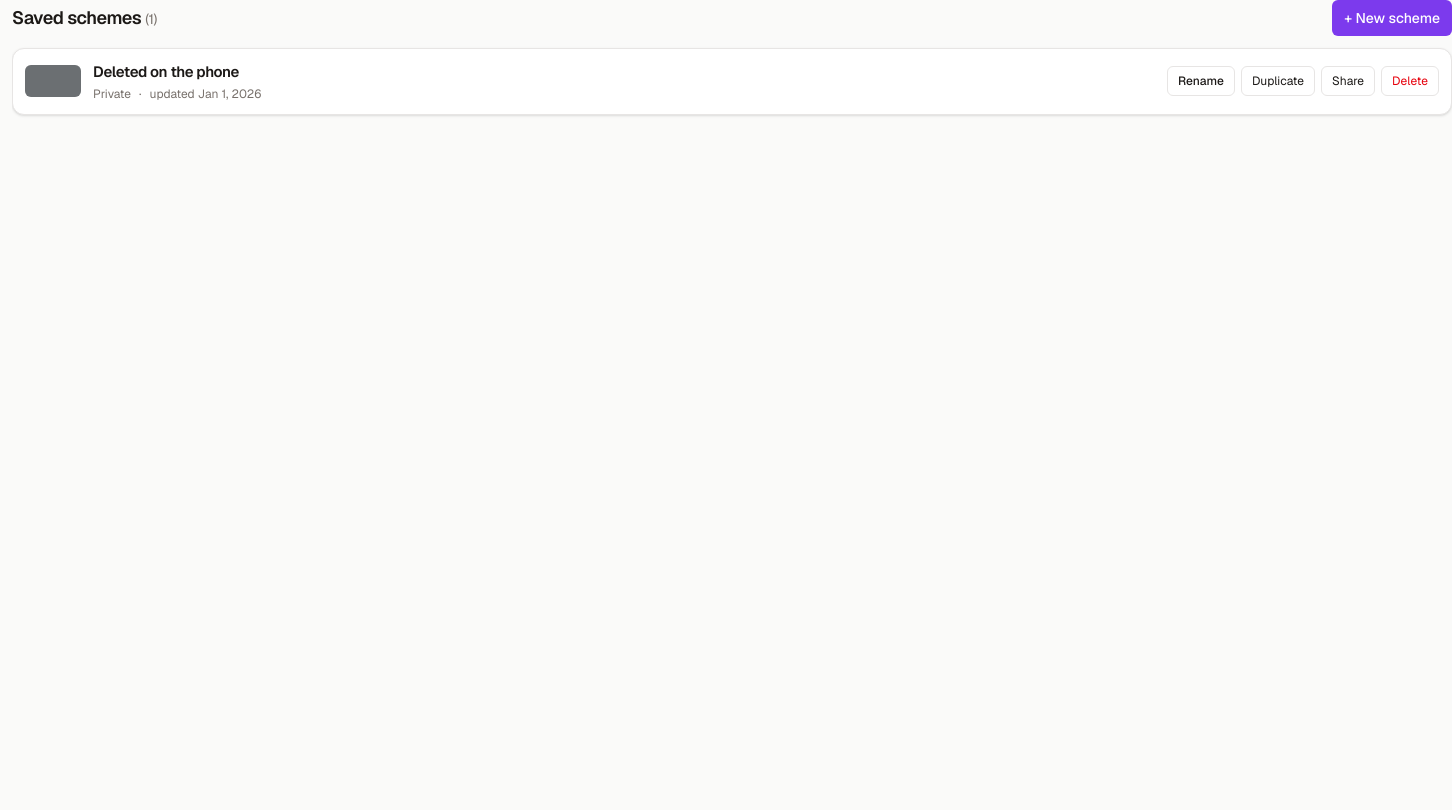
renaming a scheme › says so, and drops the card, when the row no longer exists
Expected: the link "Deleted on the phone" is shown, top-left (93, 62), bottom-right (239, 81)
Step 1. Click the button "Rename" → [1201, 81], box top-left (1167, 66), bottom-right (1235, 96)
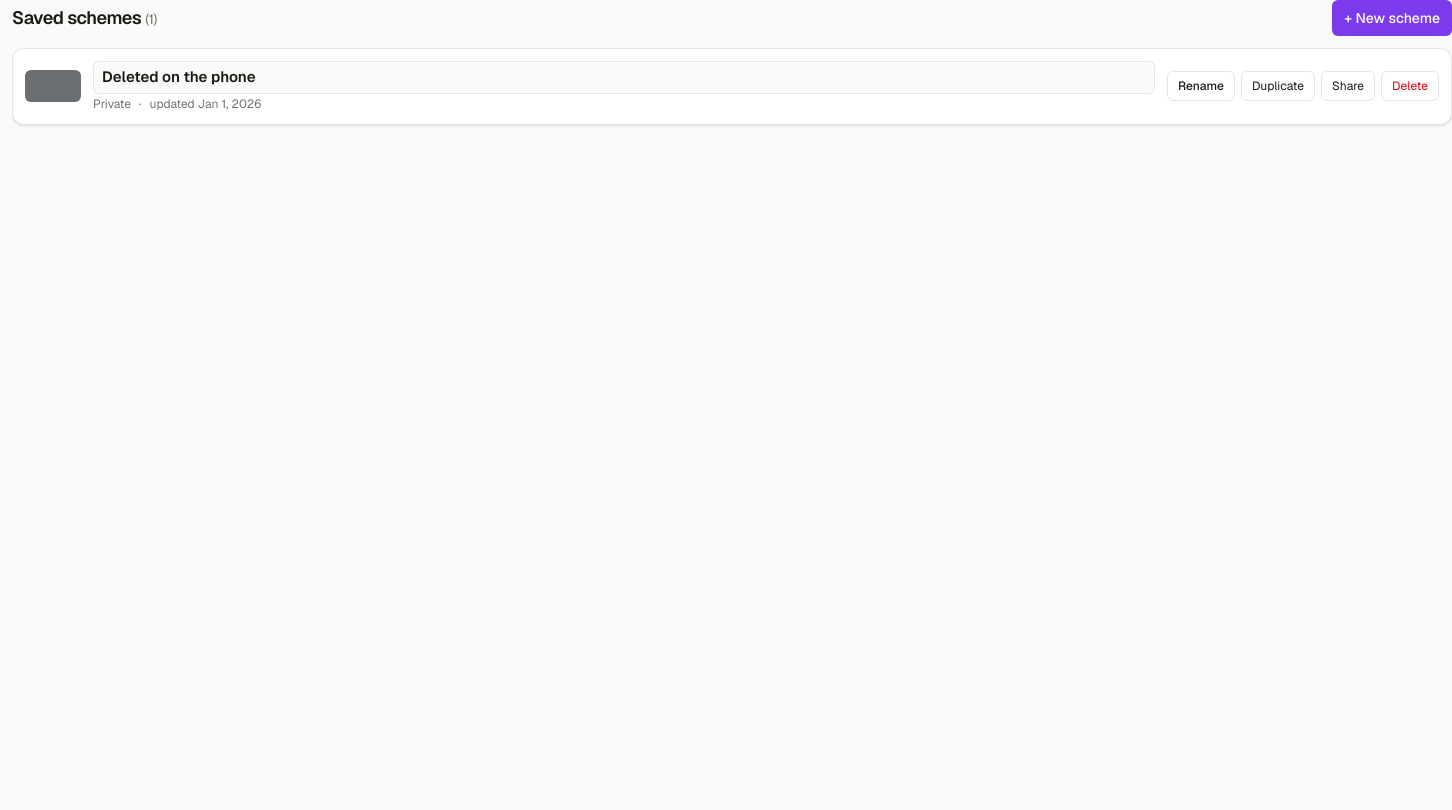
Step 2. Replace the text in the field named "Scheme name" with "New name" → [624, 77], box top-left (93, 61), bottom-right (1155, 94)
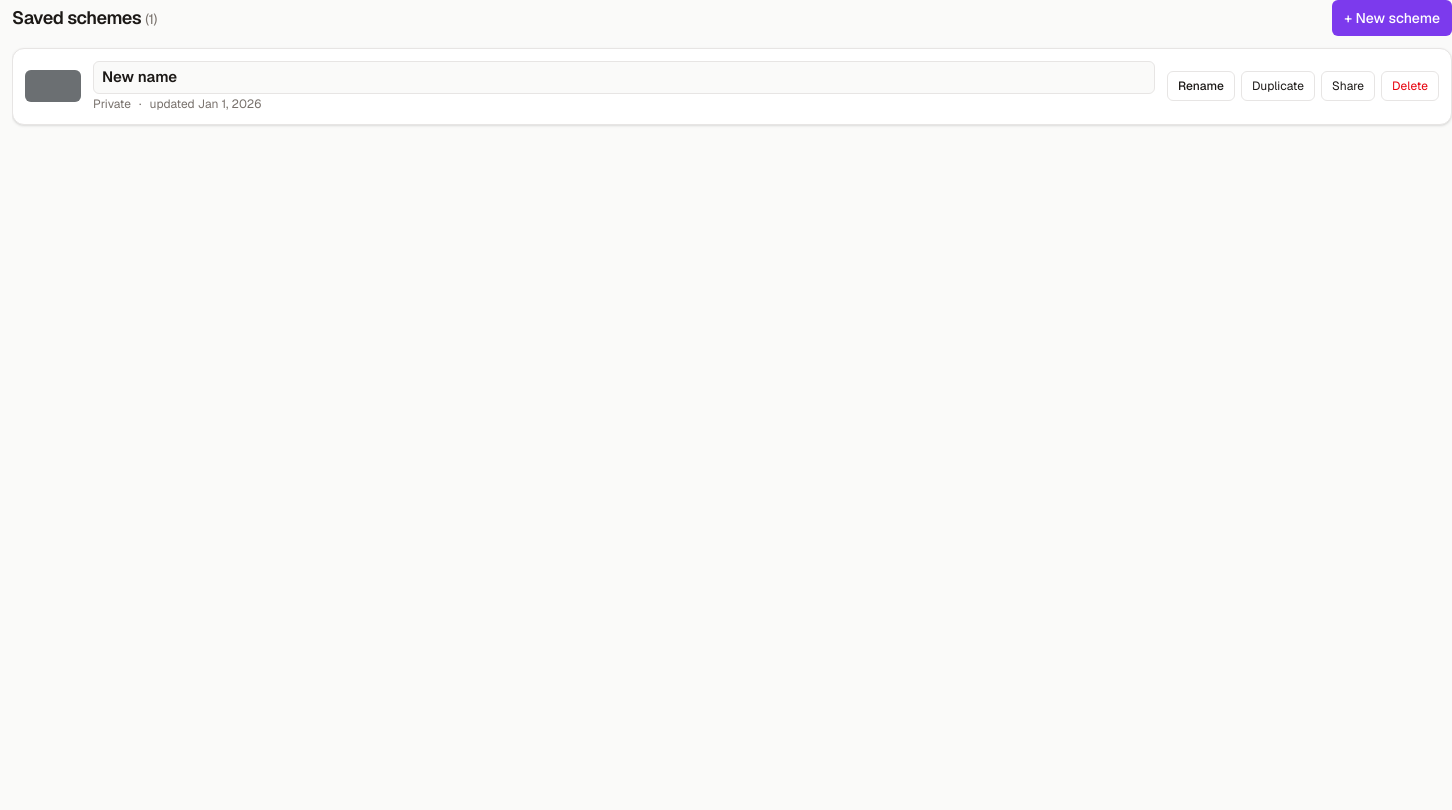
Step 3. Press Enter in the field named "Scheme name", box top-left (93, 61), bottom-right (1155, 94)
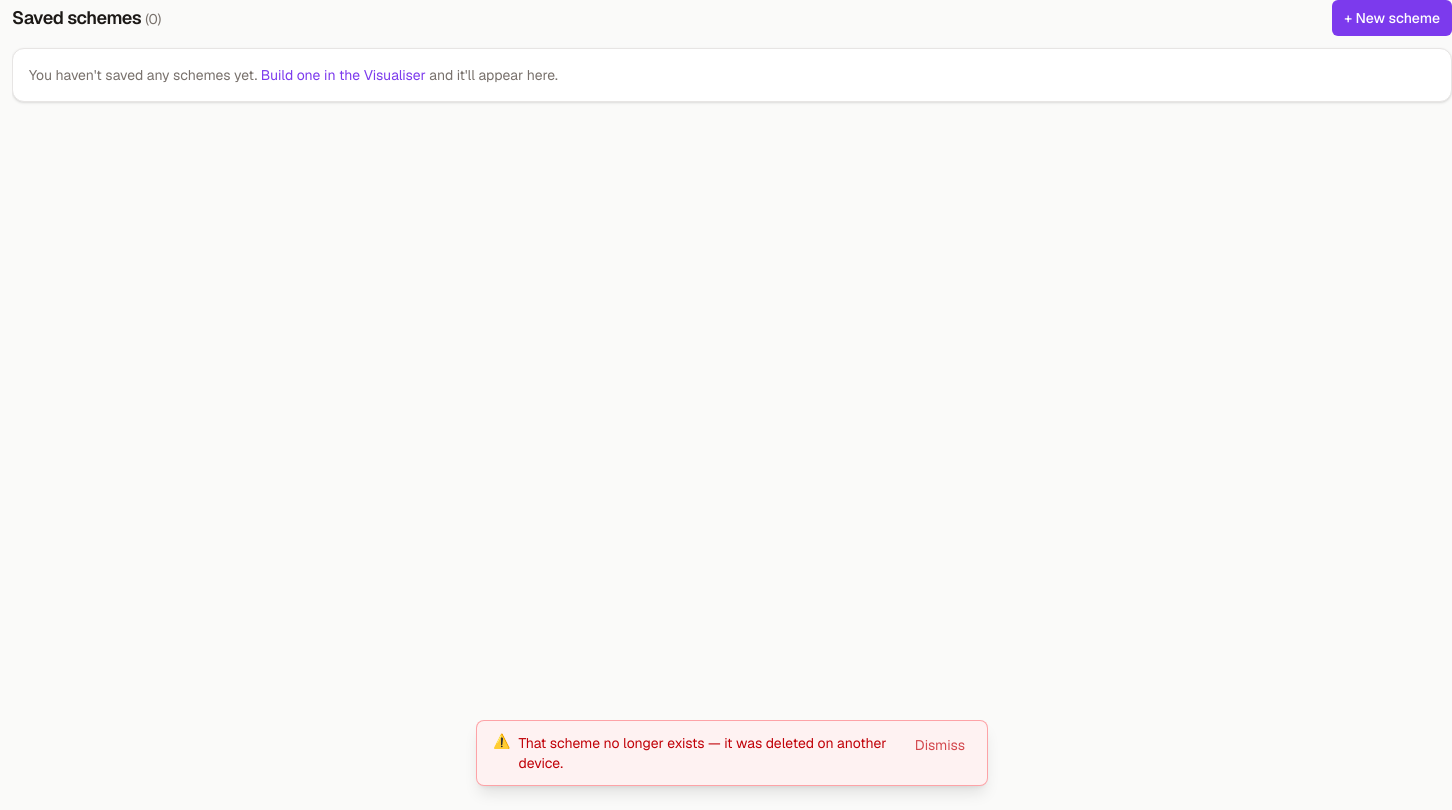
Expected: the link "Deleted on the phone" is not shown
Now the message shows "no longer exists", box top-left (518, 734), bottom-right (887, 772)
